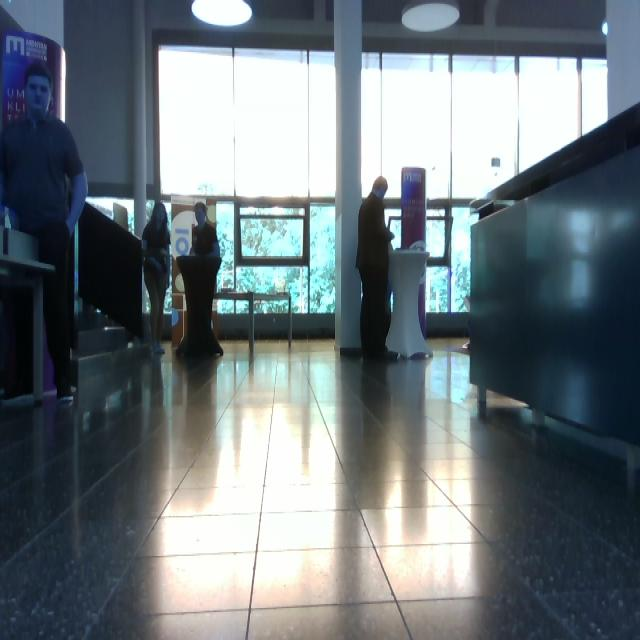light bulb: (401, 1, 461, 33), (191, 1, 253, 28), (601, 20, 609, 36)
person: (1, 61, 89, 404), (356, 176, 399, 362), (142, 202, 171, 356)
pillar: (333, 1, 363, 356), (401, 168, 428, 340)
tiled floor: (2, 335, 639, 639)
window: (157, 44, 336, 317)
